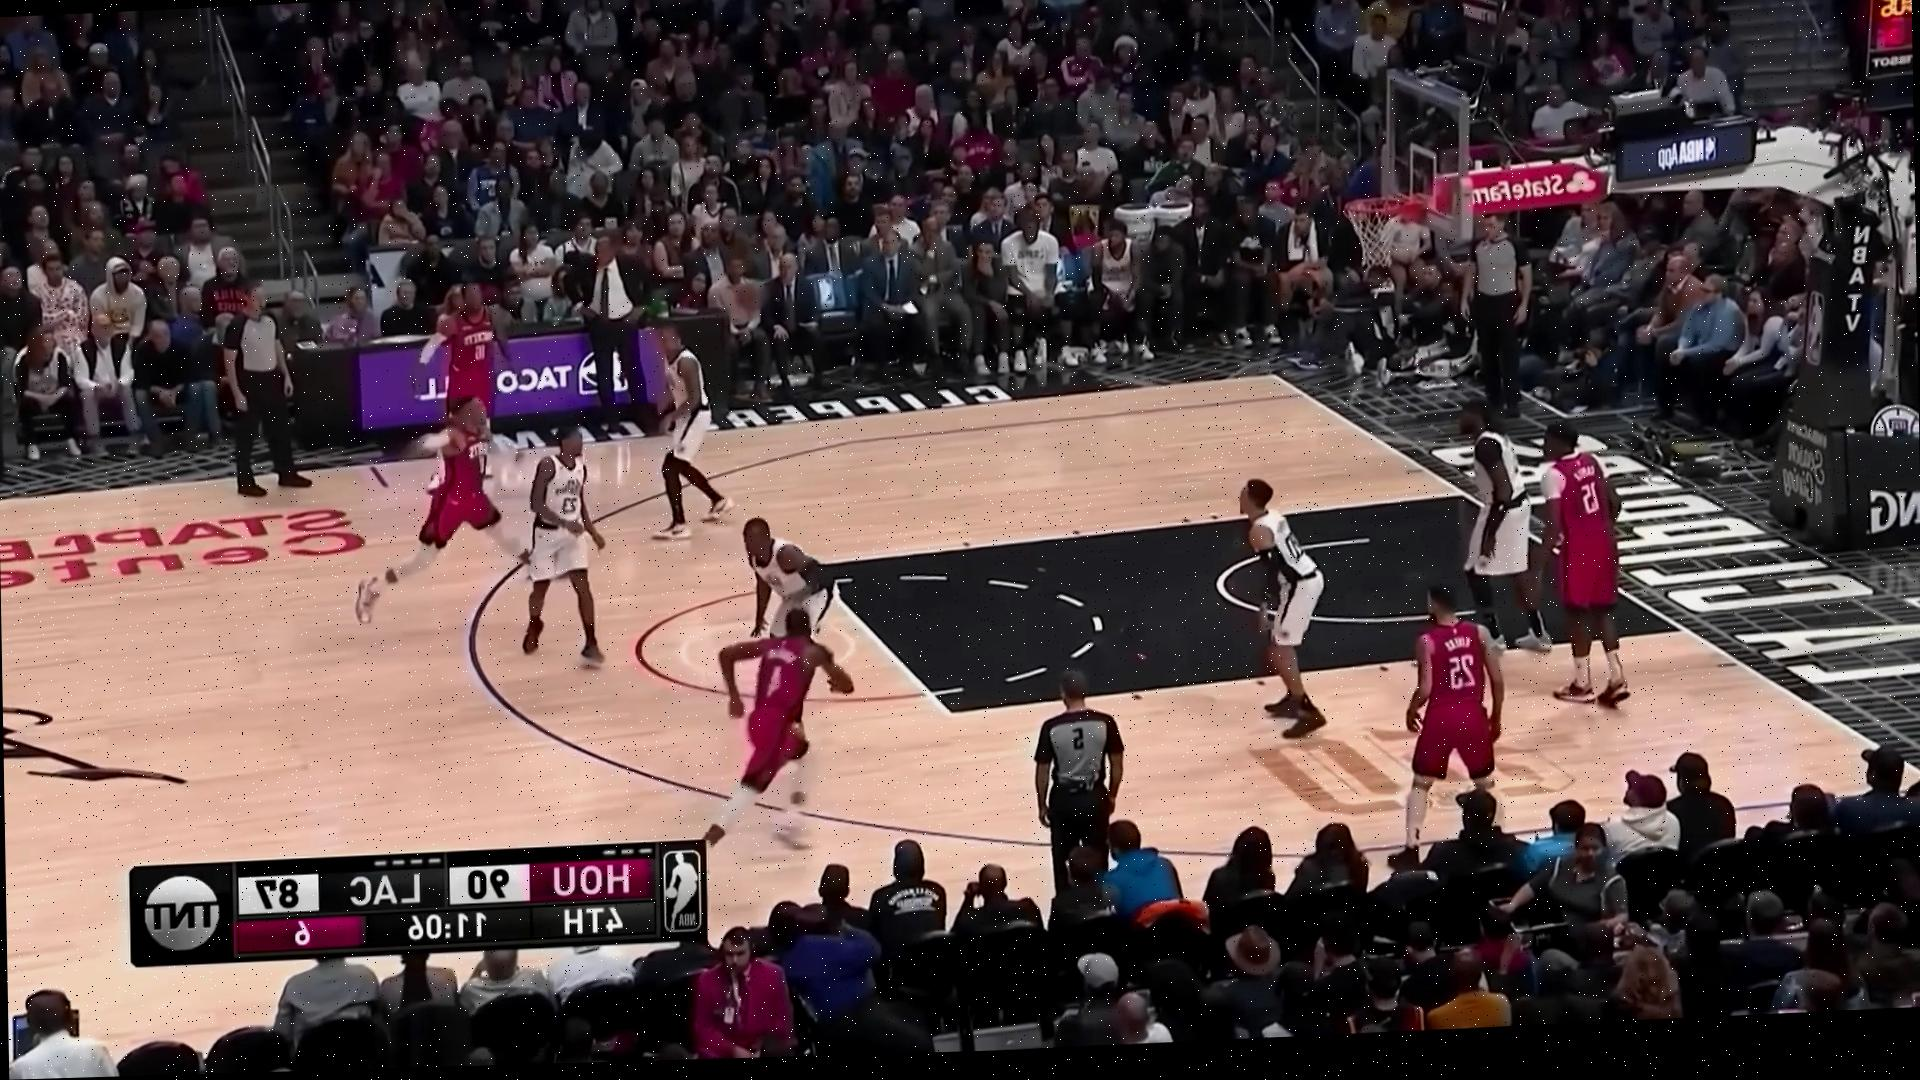no_foul: (339, 344, 654, 673)
